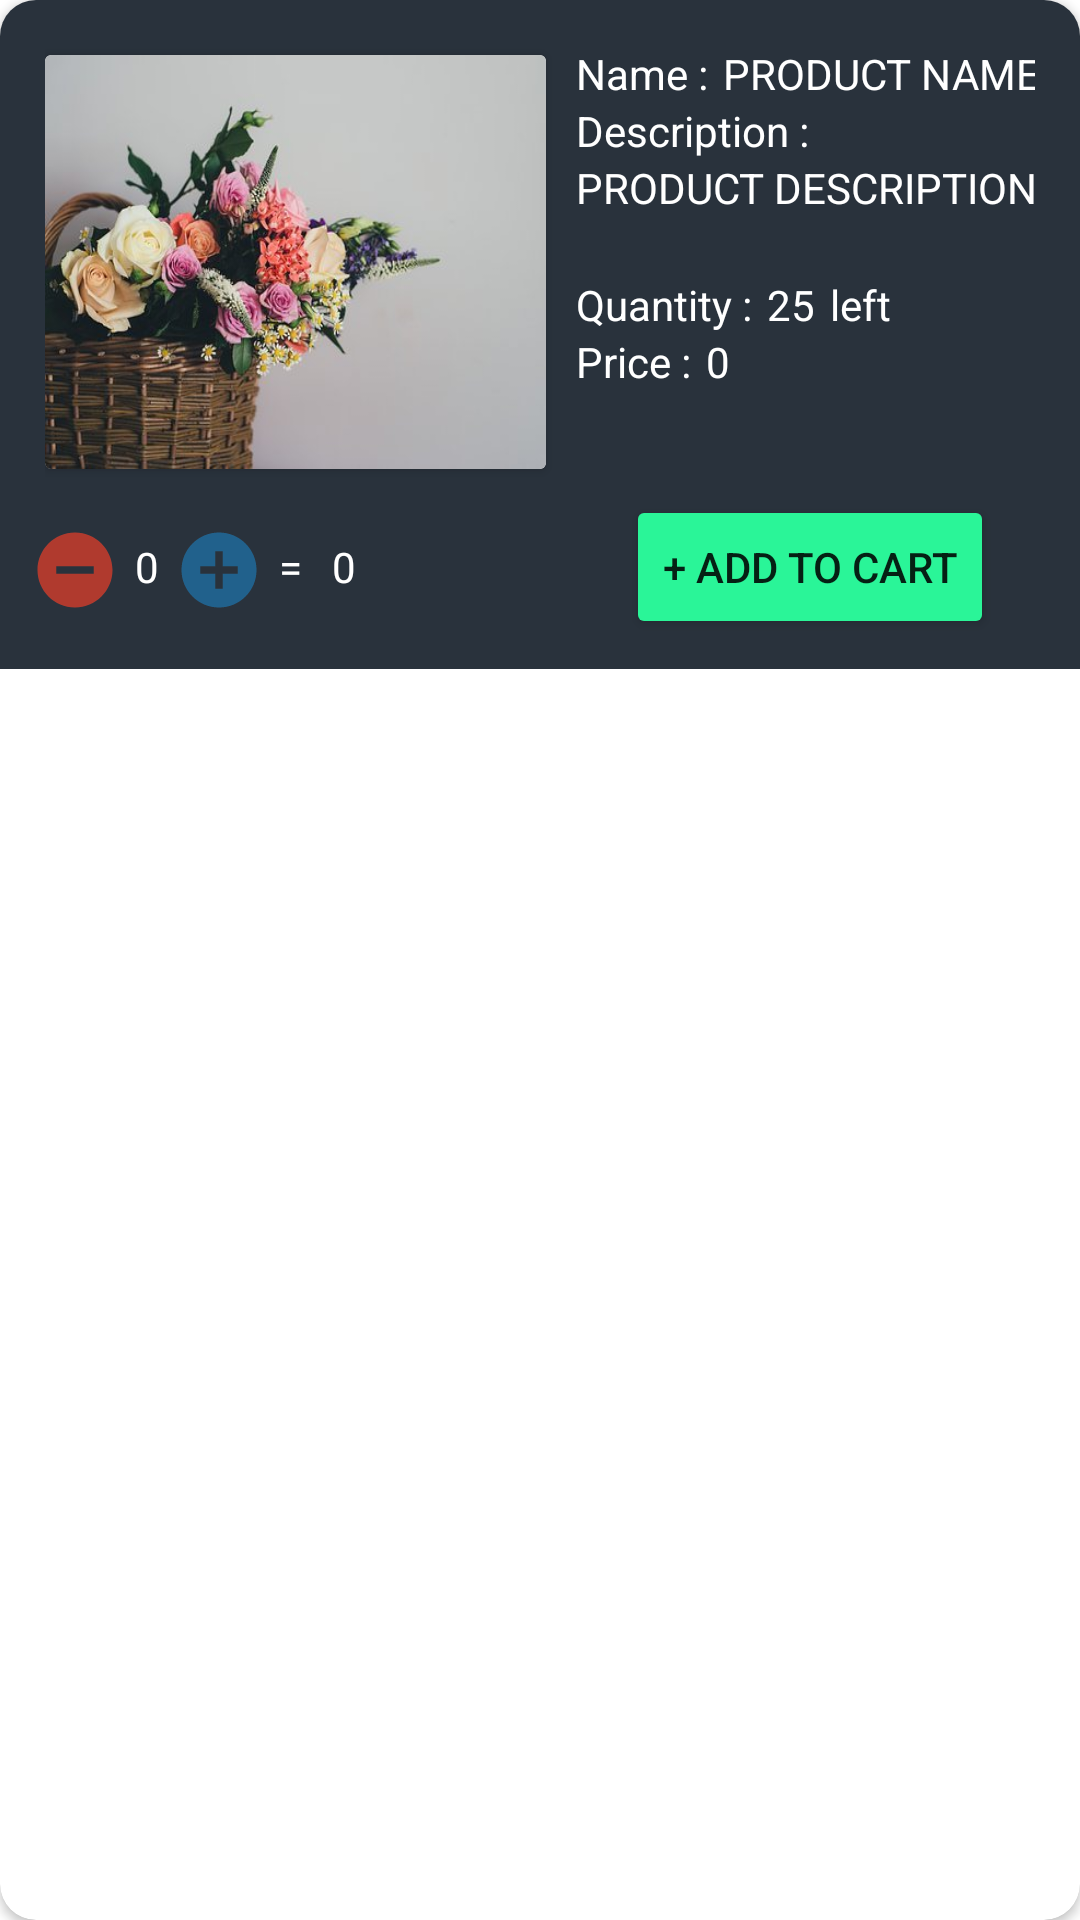

Named icons in this screenshot (1080*1920) and their centers, (x=x, y=y):
increase quantity: (x=219, y=570)
minus quantity: (x=75, y=570)
